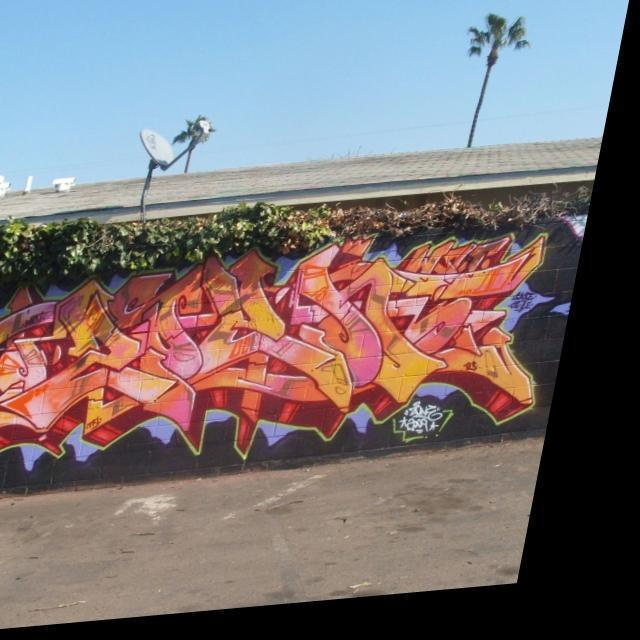-: (0, 227, 581, 468), (410, 402, 476, 451), (524, 292, 554, 326), (27, 308, 66, 333), (98, 418, 125, 439), (474, 368, 500, 386), (572, 302, 587, 329)
